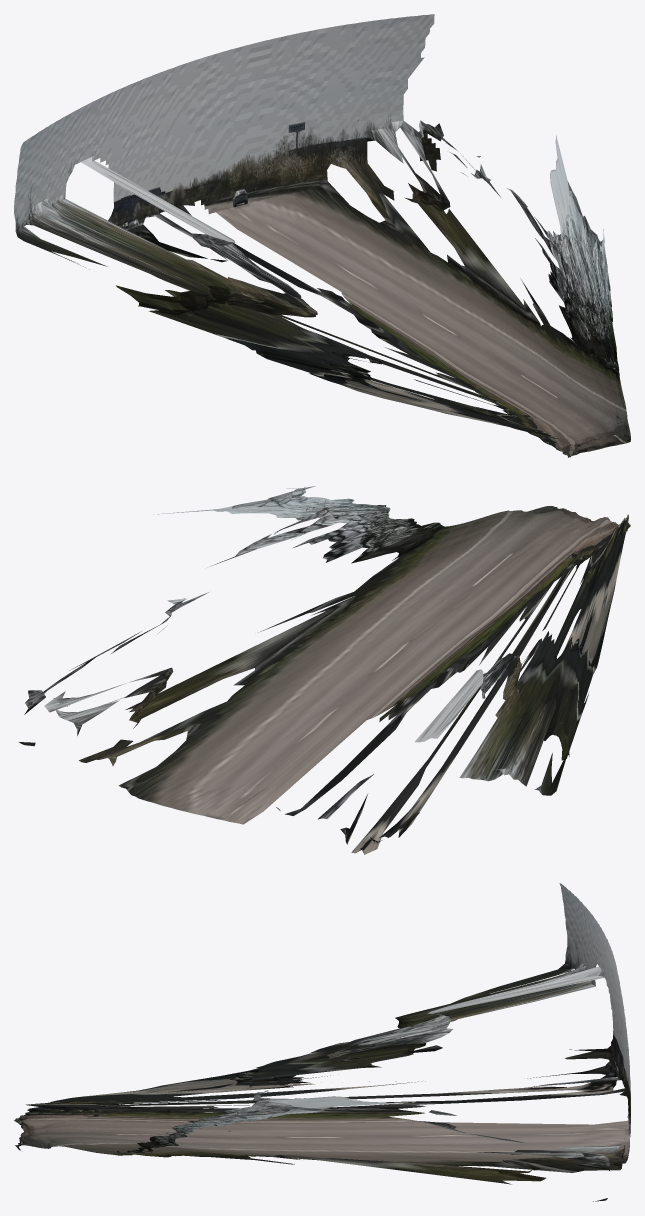
The picture shows the model from 3 angles, top to bottom: view 1: azimuth 30°, elevation 25°; view 2: azimuth 150°, elevation 25°; view 3: azimuth 270°, elevation 25°; orthographic projection. The views are drawn at different scales.
Parts seen in each view (by area): view 1: defaultobject; view 2: defaultobject; view 3: defaultobject.
Boxes of the visible parts, bbox=[...] form: defaultobject: bbox=[14, 14, 630, 457]; defaultobject: bbox=[19, 486, 630, 854]; defaultobject: bbox=[14, 883, 630, 1201].
Bounding box in the file's own units: 33.27 × 12.65 × 44.59.
1 material, 1 textured.
